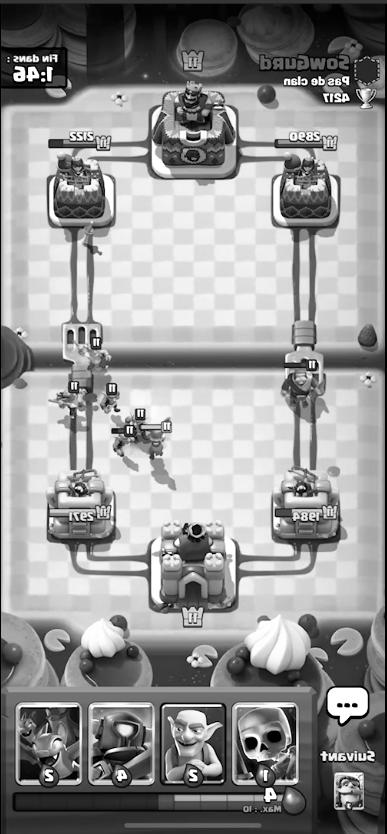chevalier: (282, 363, 326, 407)
gobelin: (98, 384, 122, 410), (112, 425, 134, 450), (124, 410, 149, 427)
gobelin_lances: (53, 383, 86, 418), (78, 337, 107, 372)
valkyrie: (137, 417, 172, 465)
